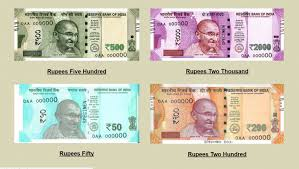fifty: (22, 94, 130, 133)
